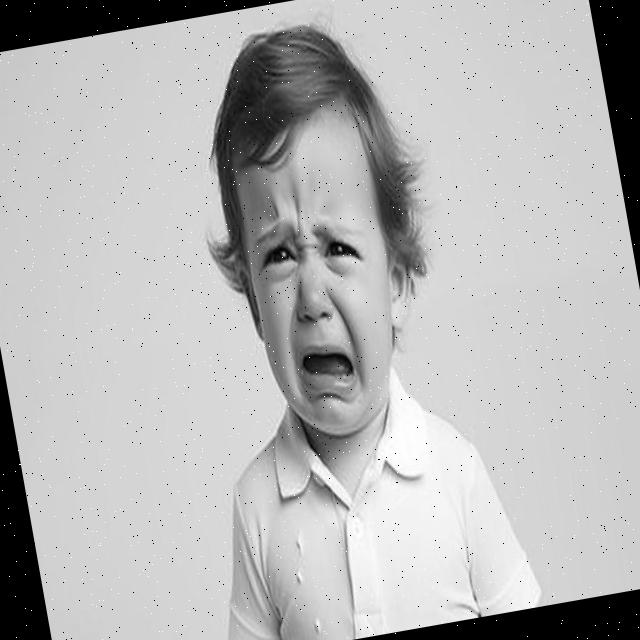Fear: (225, 98, 417, 446)
